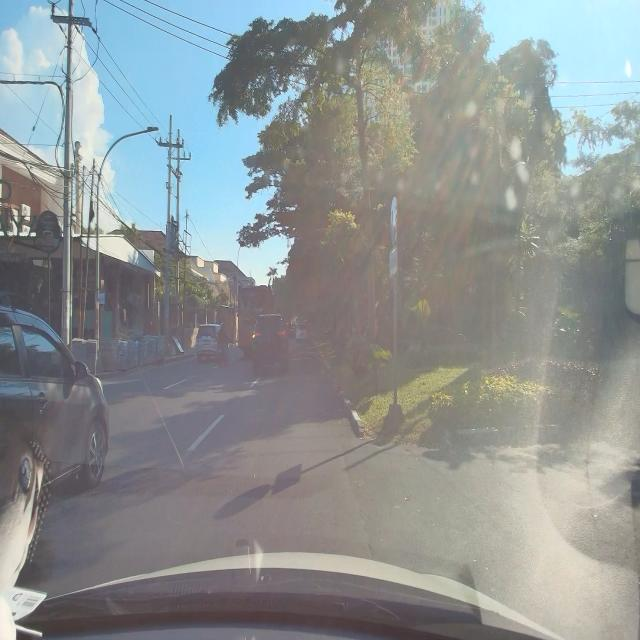car: (194, 321, 228, 360)
